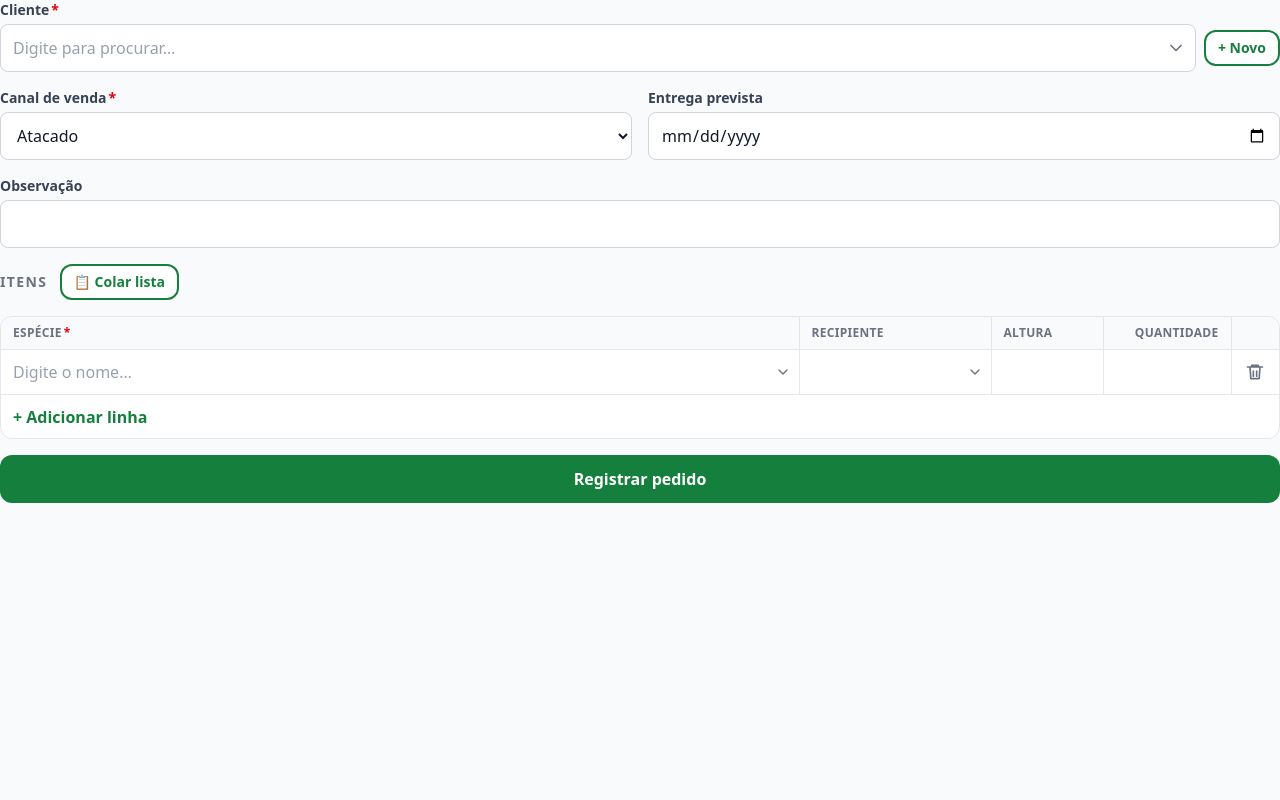
NovoPedidoForm (T8.1) › o botão ao lado do cliente abre o cadastro inteiro em tela cheia, exigindo só nome e telefone
Click the button "+ Novo" at (1242, 48), box [1204,30,1279,66]
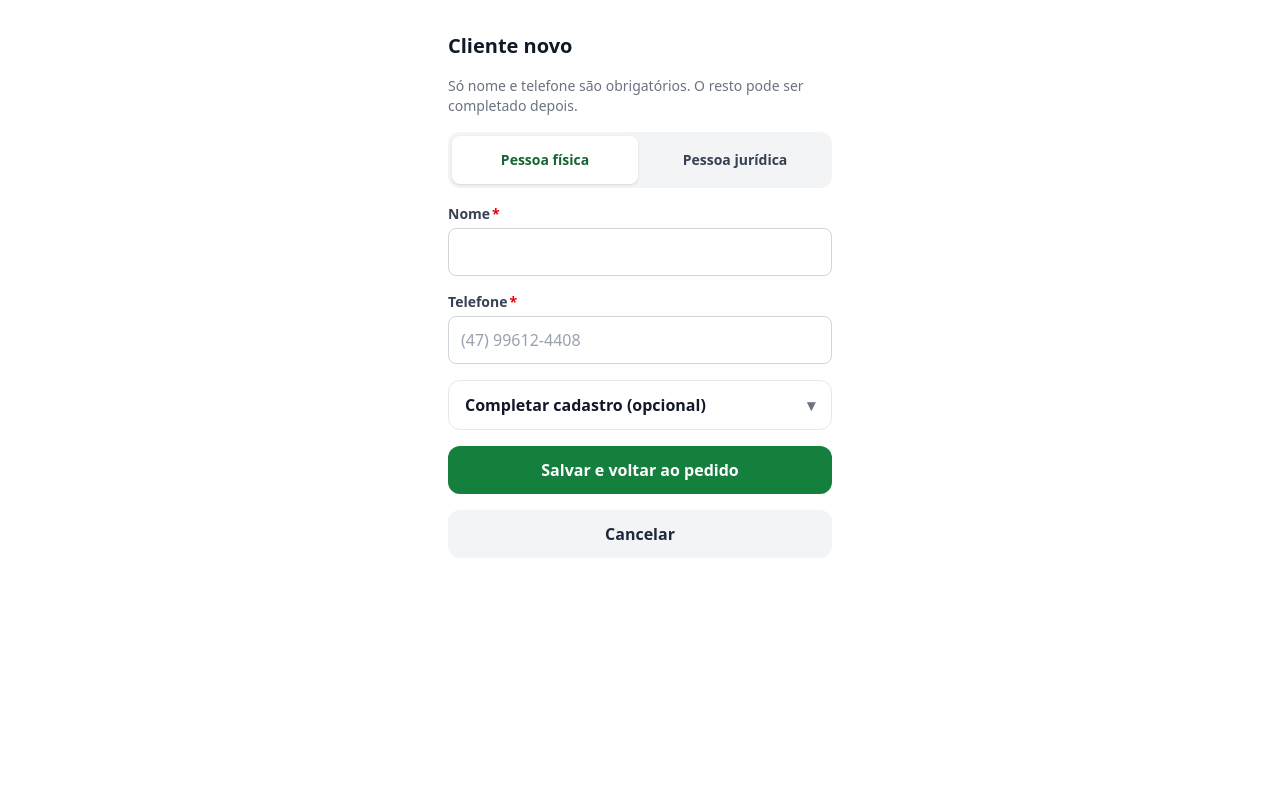
expect the dialog "Cliente novo" is shown: met
Click the button "Cancelar" at (640, 534), box [448,510,832,558]
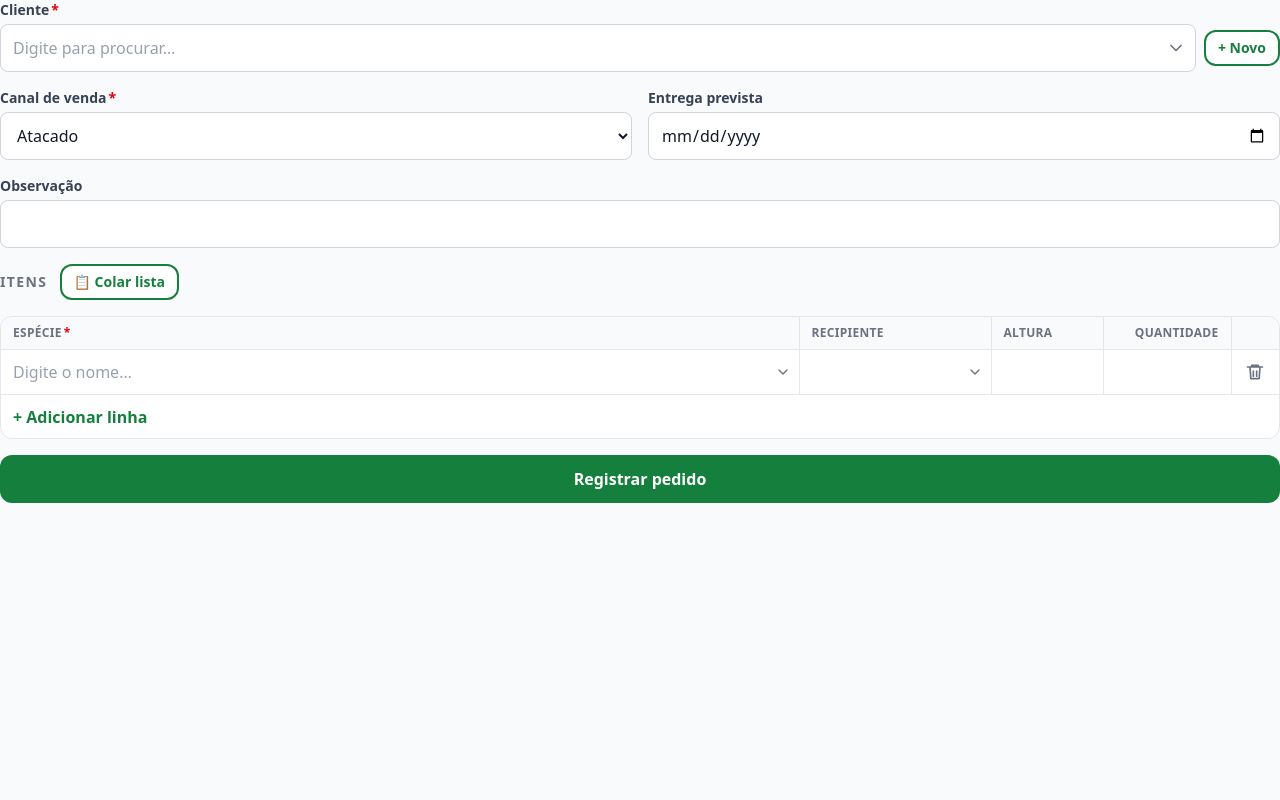
expect the dialog is gone: met
